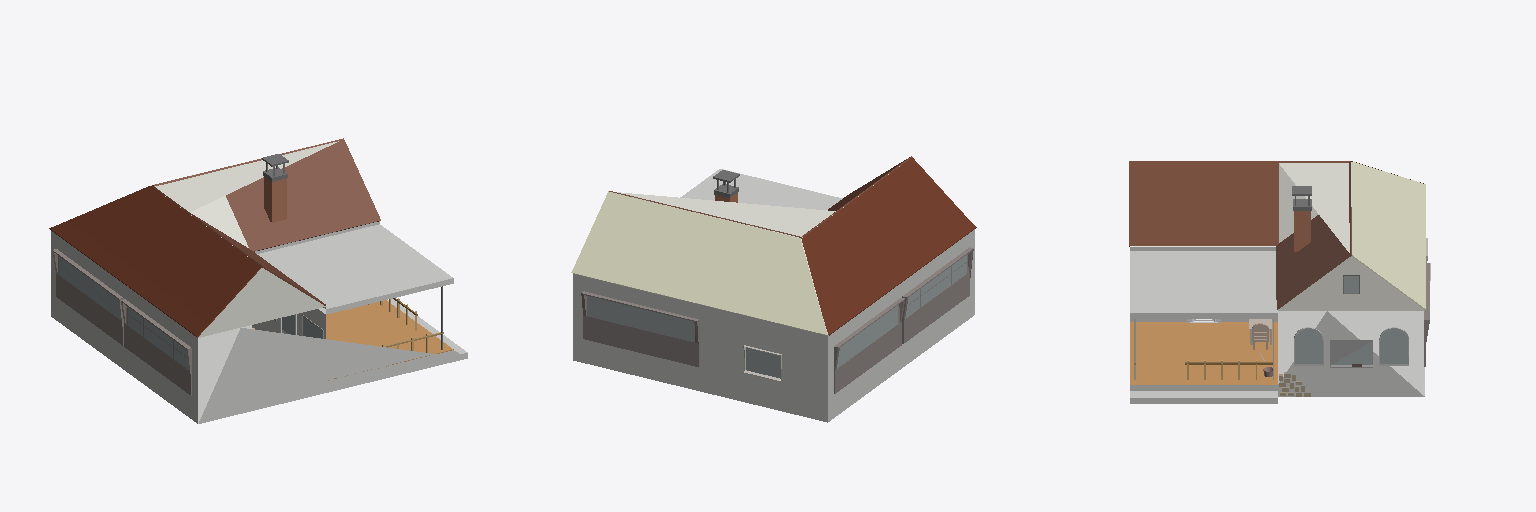
Rendered from modello-casa_gr-3.obj.
3 renders of one model, left to right at view 1: azimuth 30°, elevation 25°; view 2: azimuth 150°, elevation 25°; view 3: azimuth 270°, elevation 25°, orthographic.
Visible parts, largest first — view 1: Mesh9 Model, Mesh6 Model, Mesh5 Model, Mesh76 Model, Mesh69 Model, Mesh17 Model, Mesh18 Model, Mesh83 Model, Mesh4 Model; view 2: Mesh9 Model, Mesh7 Model, Mesh6 Model, Mesh54 Model, Mesh15 Model, Mesh69 Model, Mesh76 Model, Mesh17 Model, Mesh18 Model, Mesh16 Model, Mesh4 Model; view 3: Mesh9 Model, Mesh4 Model, Mesh7 Model, Mesh5 Model, Mesh12 Model, Mesh14 Model, Mesh13 Model, Mesh83 Model.
Boxes of the visible parts, x1,y1,x2,y2 form: Mesh9 Model: [51, 141, 467, 423]; Mesh6 Model: [49, 186, 261, 337]; Mesh5 Model: [153, 138, 380, 251]; Mesh76 Model: [121, 299, 191, 395]; Mesh69 Model: [52, 249, 123, 345]; Mesh17 Model: [59, 256, 120, 319]; Mesh18 Model: [128, 307, 188, 369]; Mesh83 Model: [264, 177, 286, 222]; Mesh4 Model: [152, 185, 325, 305]; Mesh9 Model: [573, 166, 974, 422]; Mesh7 Model: [571, 191, 827, 335]; Mesh6 Model: [801, 157, 976, 335]; Mesh54 Model: [581, 291, 699, 366]; Mesh15 Model: [588, 296, 694, 342]; Mesh69 Model: [834, 298, 904, 393]; Mesh76 Model: [902, 247, 973, 343]; Mesh17 Model: [837, 305, 897, 368]; Mesh18 Model: [905, 255, 966, 318]; Mesh16 Model: [742, 345, 781, 380]; Mesh4 Model: [800, 156, 911, 237]; Mesh9 Model: [1130, 162, 1424, 403]; Mesh4 Model: [1129, 161, 1349, 246]; Mesh7 Model: [1352, 162, 1425, 309]; Mesh5 Model: [1276, 161, 1351, 309]; Mesh12 Model: [1330, 340, 1372, 367]; Mesh14 Model: [1380, 329, 1408, 363]; Mesh13 Model: [1295, 329, 1322, 363]; Mesh83 Model: [1294, 211, 1310, 251].
Size of the model in its own units: 0.7284 by 0.4122 by 0.6943.